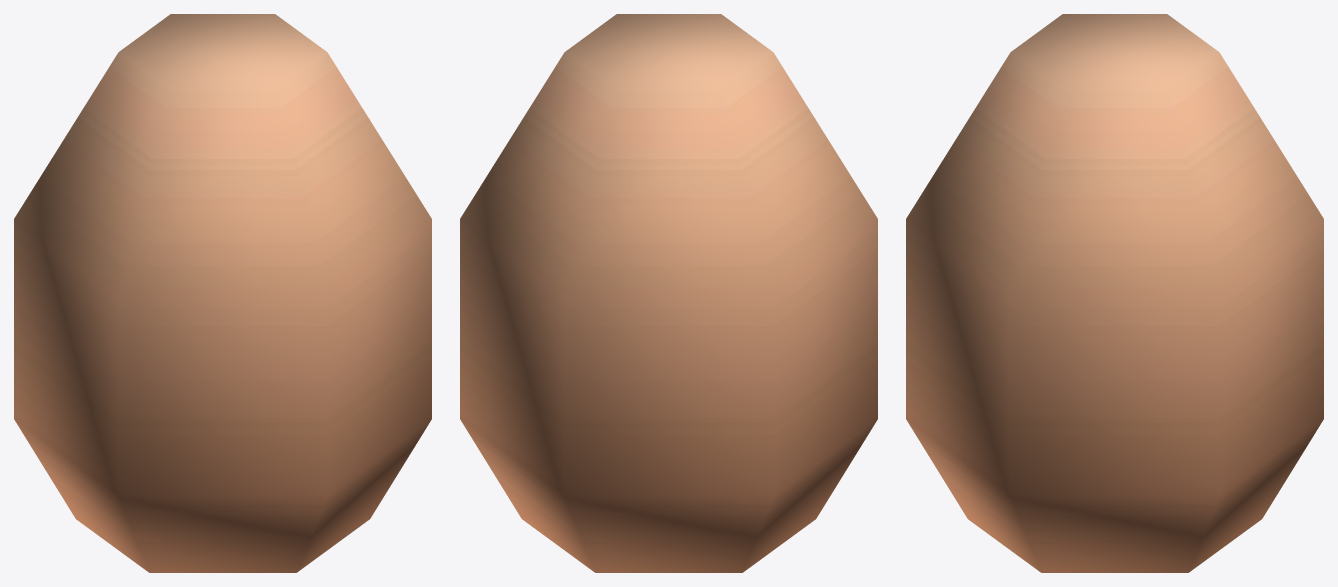
File: egg.glb
The picture shows the model from 3 angles, left to right: view 1: azimuth 30°, elevation 25°; view 2: azimuth 150°, elevation 25°; view 3: azimuth 270°, elevation 25°; orthographic projection.
Visible parts, largest first — view 1: egg; view 2: egg; view 3: egg.
Boxes of the visible parts, box(x1,y1,x2,y2) form: egg: box(14, 14, 431, 572); egg: box(460, 14, 877, 572); egg: box(906, 14, 1323, 572).
Size of the model in its own units: 0.1161 by 0.1652 by 0.134.
1 material, 1 textured.
